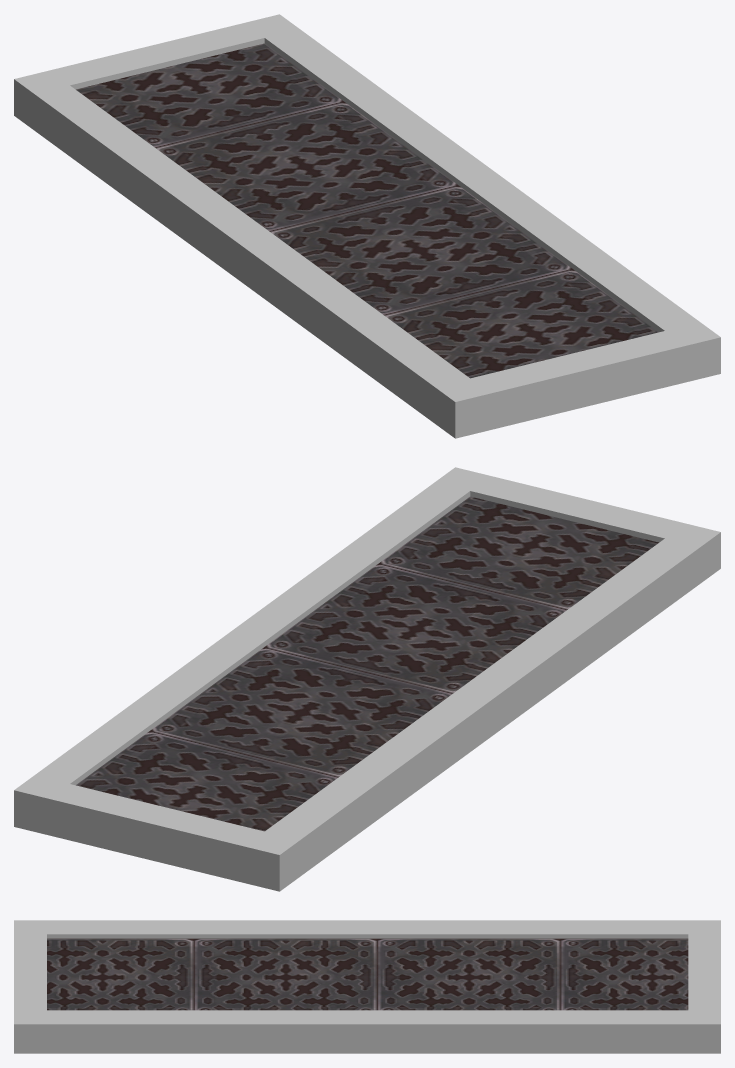
The model's file is cs_chengshi_gongyefb_004.FBX.
3 renders of one model, top to bottom at view 1: azimuth 30°, elevation 25°; view 2: azimuth 150°, elevation 25°; view 3: azimuth 270°, elevation 25°, orthographic. The views are drawn at different scales.
Visible parts, largest first — view 1: cs_chengshi_gongyefb_004; view 2: cs_chengshi_gongyefb_004; view 3: cs_chengshi_gongyefb_004.
Part boxes in pixels (x1,y1,x2,y2): cs_chengshi_gongyefb_004: (14,14,720,438); cs_chengshi_gongyefb_004: (14,467,720,891); cs_chengshi_gongyefb_004: (14,920,720,1053).
Size of the model in its own units: 261 by 34.3 by 750.
